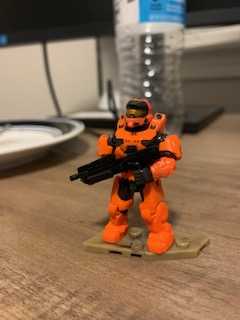rifle: (66, 145, 161, 186)
spartan: (98, 98, 183, 254)
